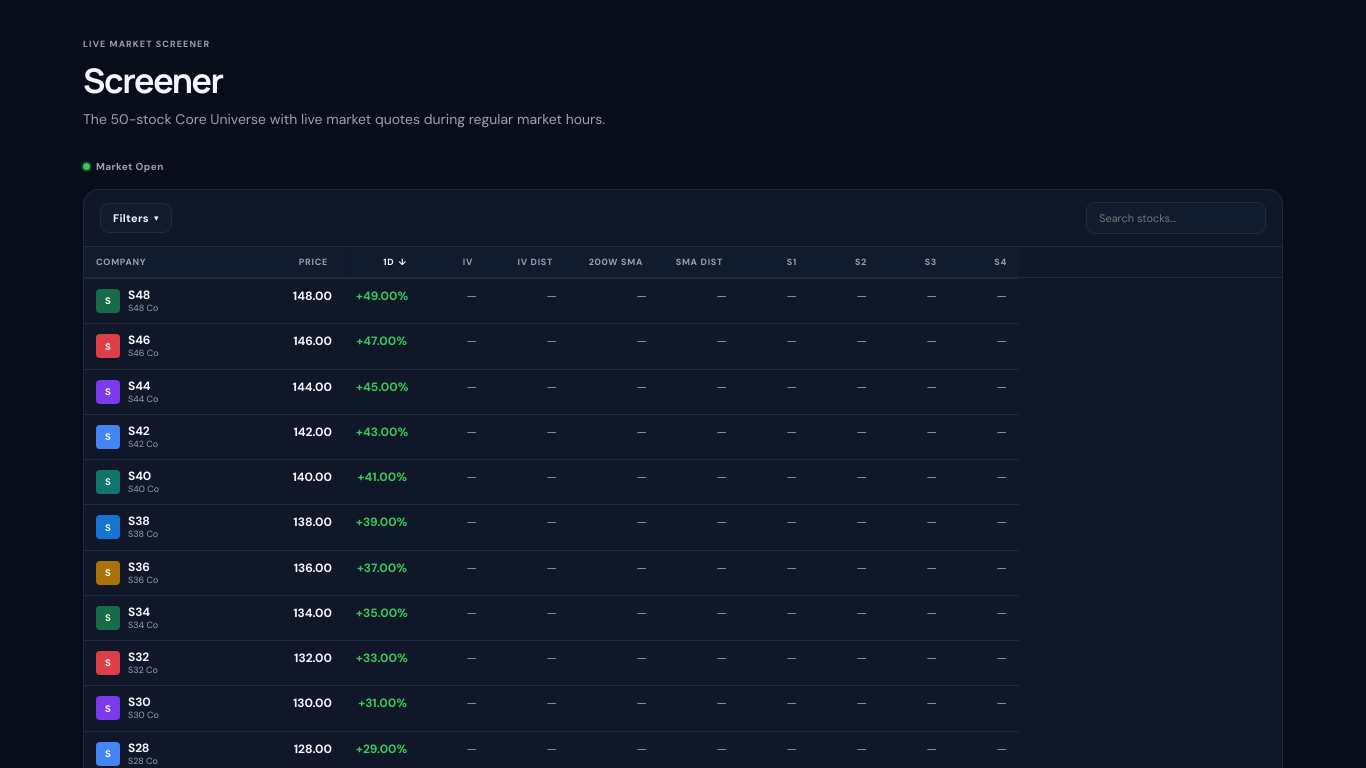
Test: ScreenerPage › filters gainers and losers via Filters menu
Note: Open filters menu
Click the button "Filters ▾": (136, 218) [100,203,172,233]
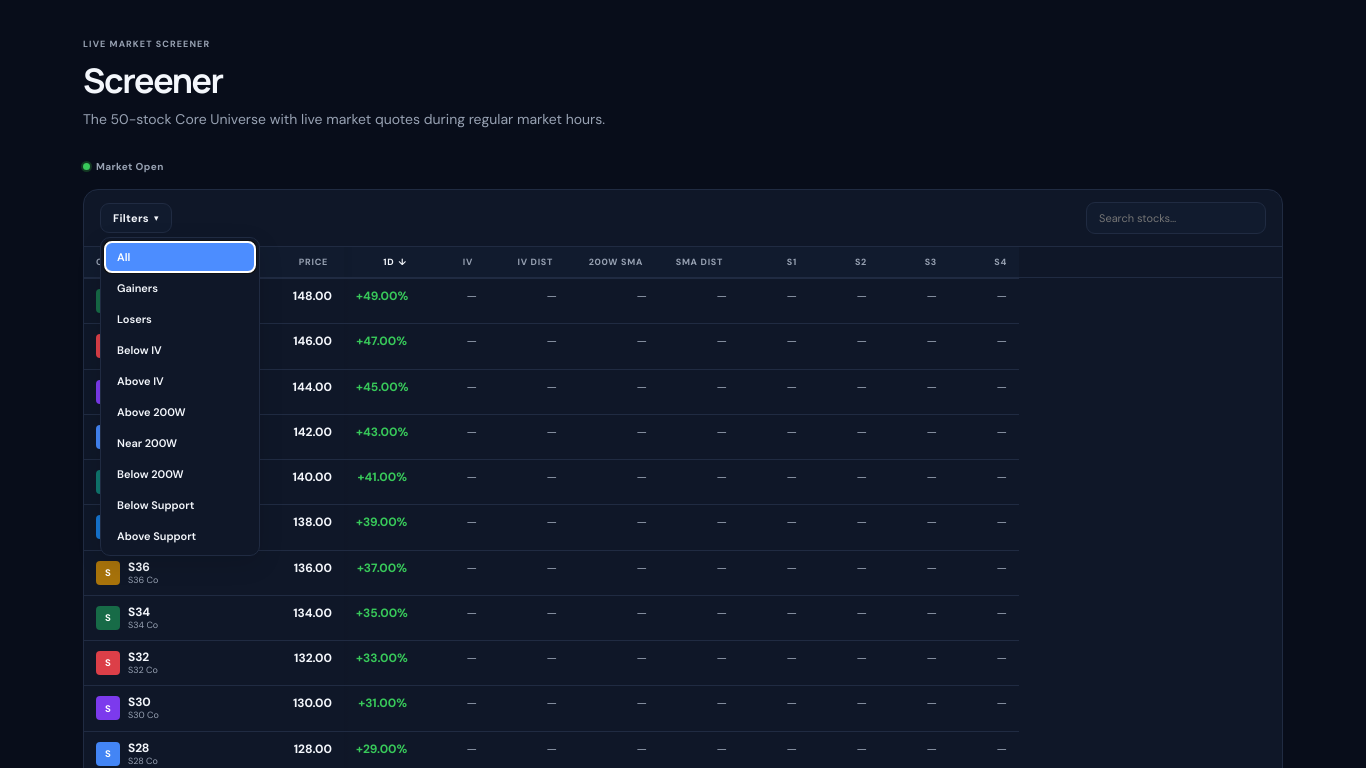
Note: Click Gainers
Click the menu item "Gainers": (180, 288) [105,273,255,303]
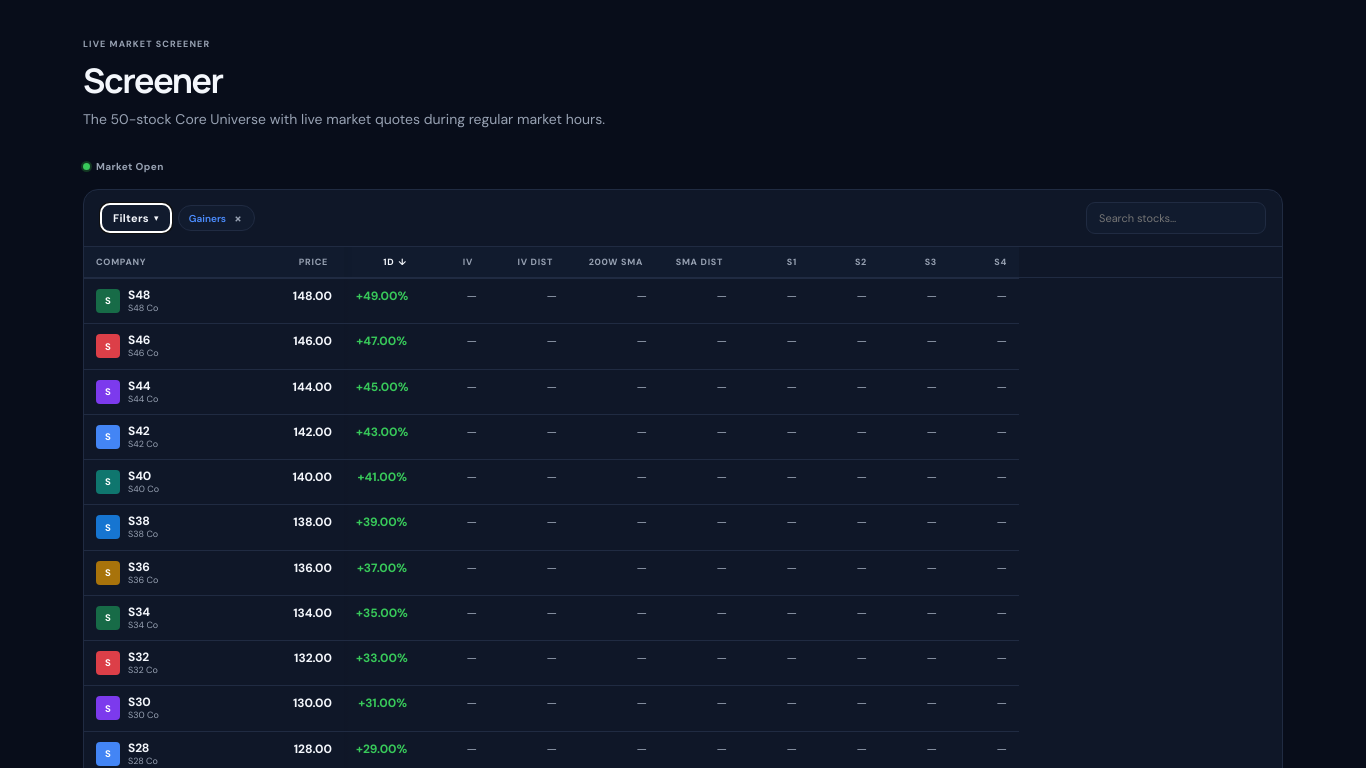
Check: the text "S01" is not shown
Note: Open filters menu again
Click the button "Filters ▾": (136, 218) [100,203,172,233]
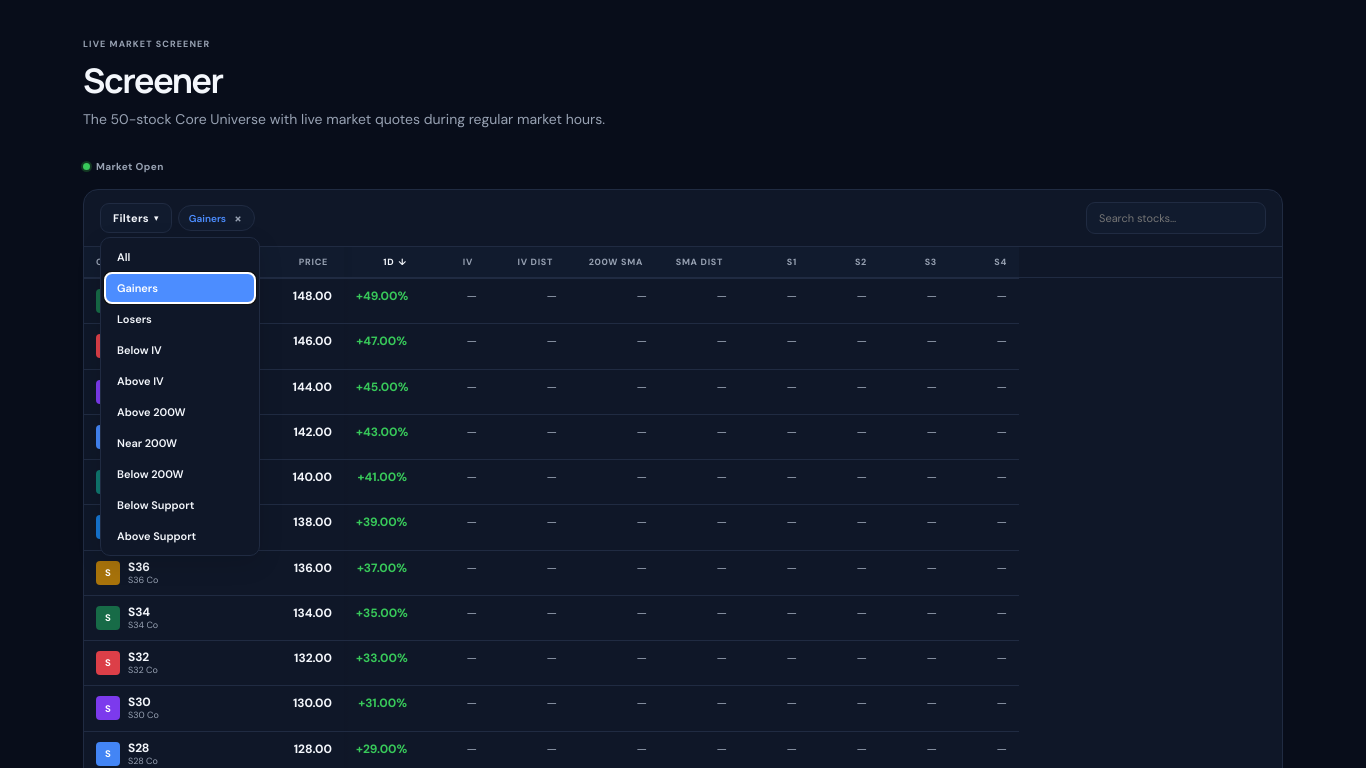
Note: Click Losers
Click the menu item "Losers": (180, 319) [105,304,255,334]
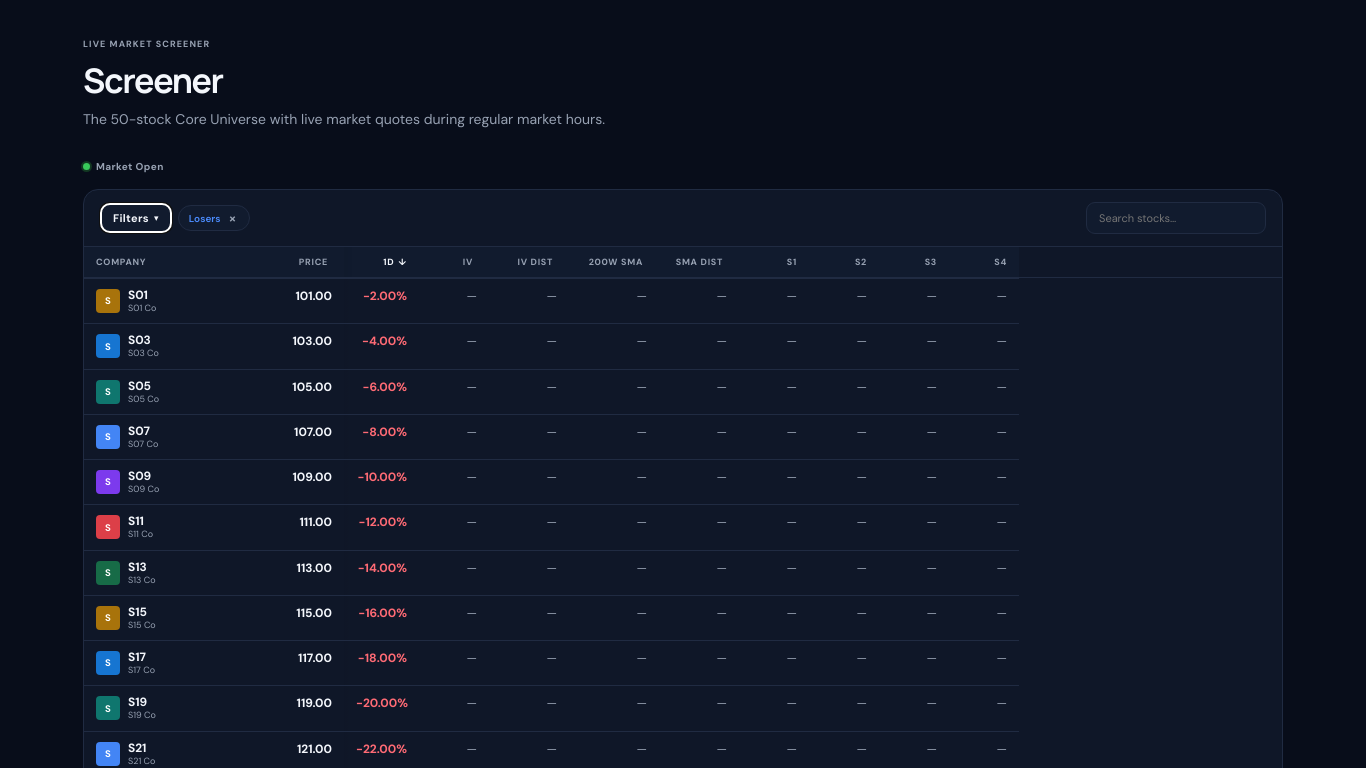
Check: the text "S01" is shown, box [128,288,148,303]
